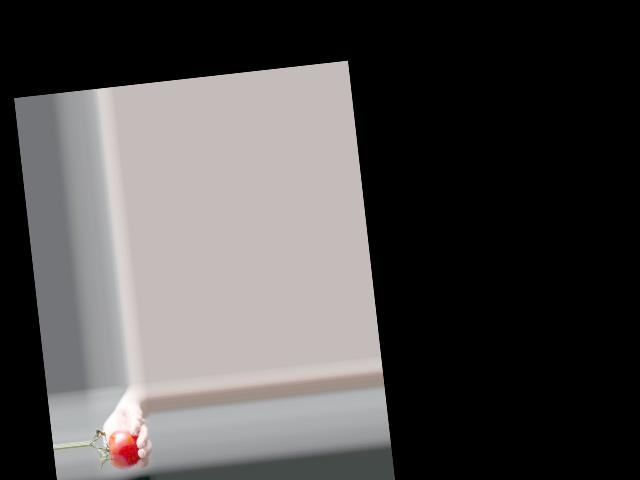tomato: (106, 427, 141, 470)
